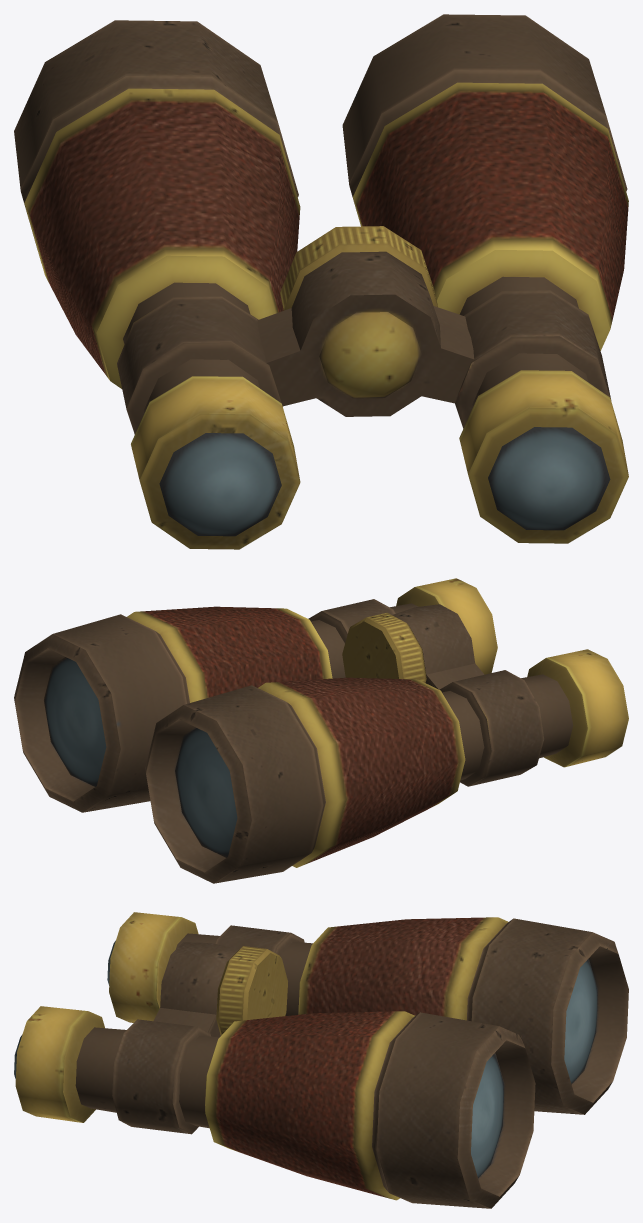
Rendered from binoculars_01.FBX.
The picture shows the model from 3 angles, top to bottom: view 1: azimuth 30°, elevation 25°; view 2: azimuth 150°, elevation 25°; view 3: azimuth 270°, elevation 25°; orthographic projection. The views are drawn at different scales.
Parts seen in each view (by area): view 1: binoculars_01; view 2: binoculars_01; view 3: binoculars_01.
Boxes of the visible parts, x1,y1,x2,y2 form: binoculars_01: (14,14,628,549); binoculars_01: (14,578,628,883); binoculars_01: (14,912,628,1208).
Size of the model in its own units: 24.49 by 27.38 by 8.74.
